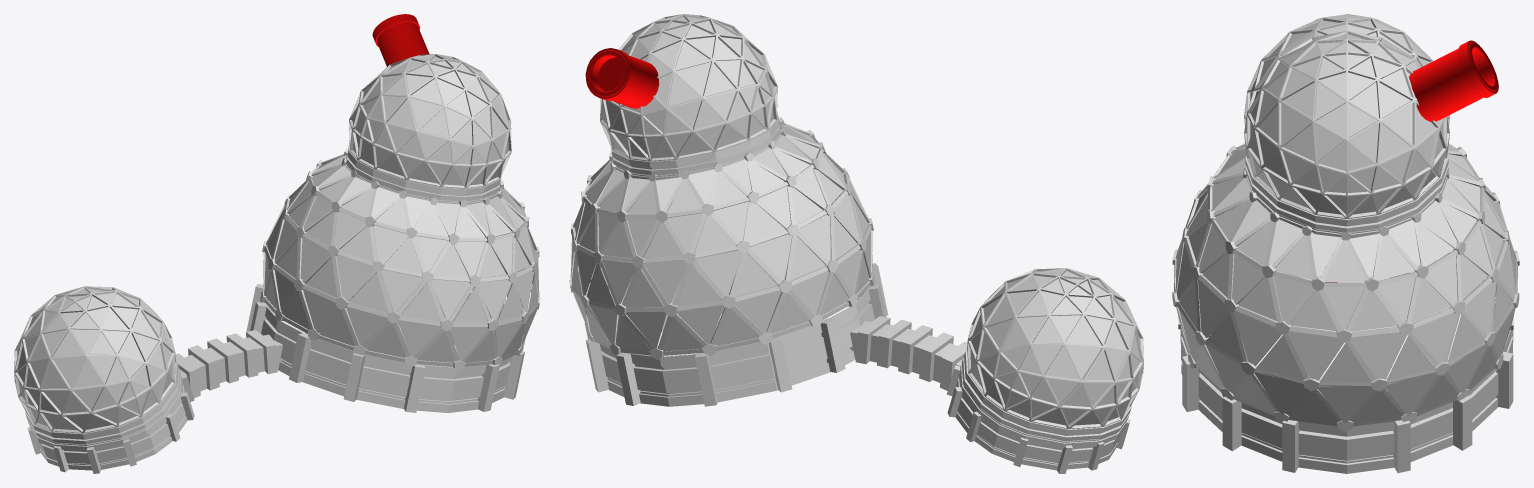
The model's file is Cupula_Intro.FBX.
3 views of the same model, side by side, from view 1: azimuth 30°, elevation 25°; view 2: azimuth 150°, elevation 25°; view 3: azimuth 270°, elevation 25° (orthographic). The views are drawn at different scales.
Visible parts, largest first — view 1: Cupulas; view 2: Cupulas; view 3: Cupulas.
Part boxes in pixels (box(x1,y1,x2,y2)): Cupulas: box(14, 14, 540, 473); Cupulas: box(569, 14, 1143, 473); Cupulas: box(1172, 14, 1519, 473).
Size of the model in its own units: 351 by 218 by 171.
